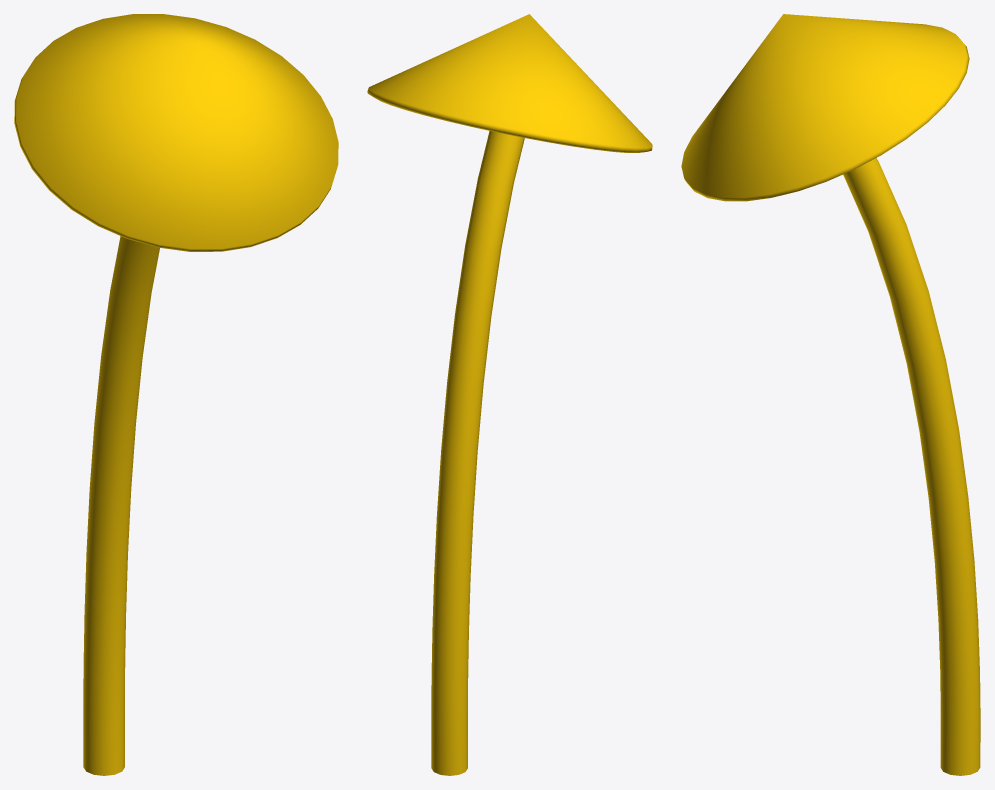
The model's file is Seta_Amarilla_Patron.glb.
3 renders of one model, left to right at view 1: azimuth 30°, elevation 25°; view 2: azimuth 150°, elevation 25°; view 3: azimuth 270°, elevation 25°, orthographic. The views are drawn at different scales.
Parts seen in each view (by area): view 1: BézierCurve; view 2: BézierCurve; view 3: BézierCurve.
Boxes of the visible parts, bbox=[...] form: BézierCurve: bbox=[14, 14, 338, 775]; BézierCurve: bbox=[367, 14, 652, 775]; BézierCurve: bbox=[681, 14, 980, 775].
Bounding box in the file's own units: 0.6399 × 1.67 × 0.6017.
